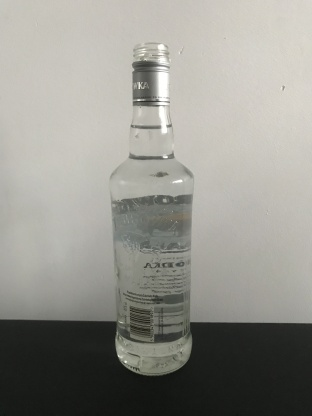nakretka: (130, 39, 172, 107)
